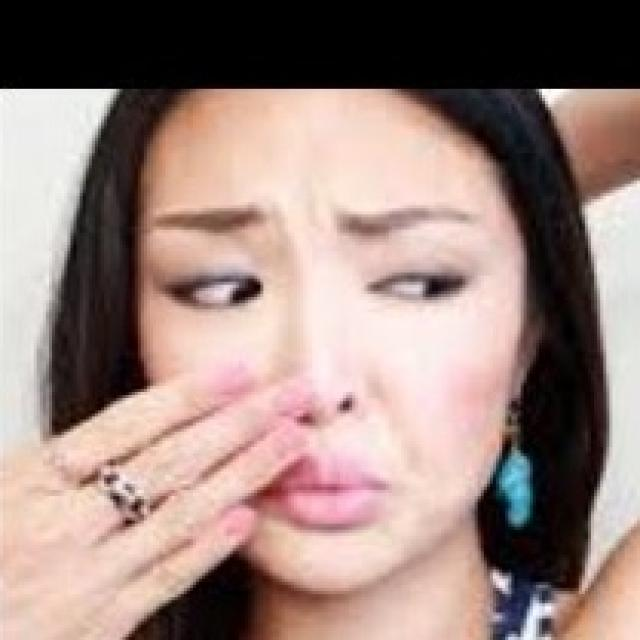Depress: (0, 85, 532, 637)
